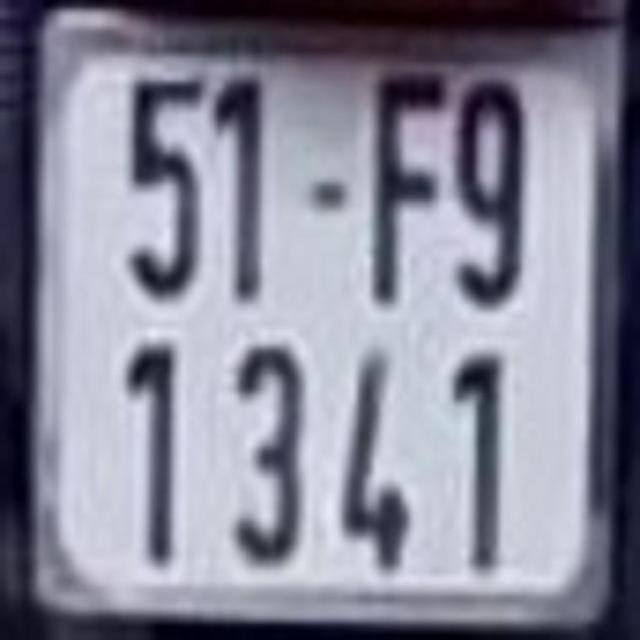1: (448, 345, 514, 572), (123, 339, 182, 567), (213, 72, 270, 301)
3: (231, 340, 305, 565)
4: (340, 345, 416, 573)
5: (127, 74, 205, 298)
9: (453, 72, 527, 310)
F: (371, 67, 446, 307)
